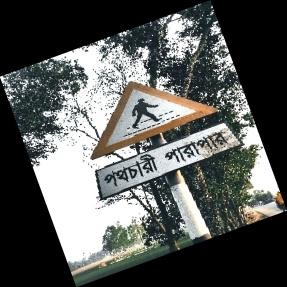Pedestrian-crossing: (90, 80, 238, 205)
